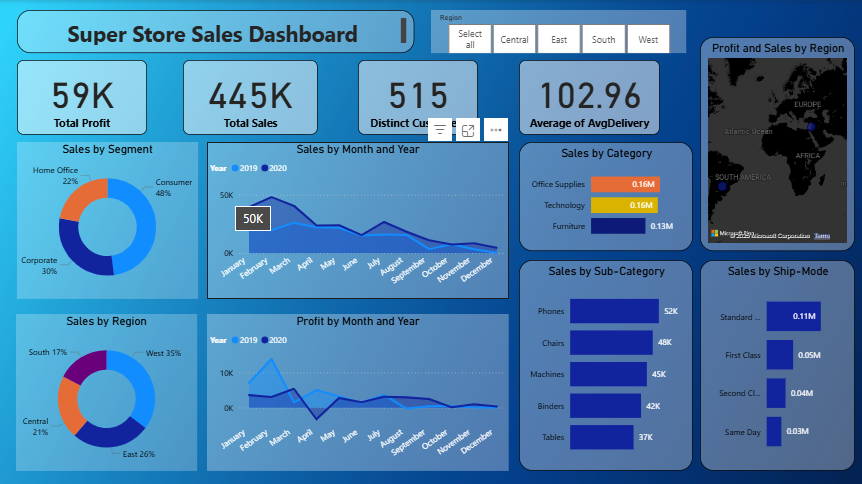

The page's visual inventory and layout, read from the dashboard file:
{"tool":"powerbi","page":{"name":"Page 1","canvas":[1280,720],"ordinal":0},"visuals":[{"type":"clusteredBarChart","title":"Sales by Category","fields":{"Category":["SuperStore_Sales_Dataset.Category"],"Y":["Sum(SuperStore_Sales_Dataset.Sales)"]},"box":[770.7,210.9,258.4,161.9],"z":0},{"type":"card","fields":{"Values":["Sum(SuperStore_Sales_Dataset.Profit)"]},"box":[25.2,89.1,193,111.4],"z":1000},{"type":"card","fields":{"Values":["Count(SuperStore_Sales_Dataset.Customer ID)"]},"box":[531.6,89.1,178.2,111.4],"z":2000},{"type":"card","fields":{"Values":["Sum(SuperStore_Sales_Dataset.Sales)"]},"box":[271.7,89.1,200.5,111.4],"z":3000},{"type":"clusteredBarChart","title":"Sales by Sub-Category","fields":{"Category":["SuperStore_Sales_Dataset.Sub-Category"],"Y":["Sum(SuperStore_Sales_Dataset.Sales)"]},"box":[770.7,386.1,258.4,313.3],"z":4000},{"type":"clusteredBarChart","title":"Sales by Ship-Mode","fields":{"Category":["SuperStore_Sales_Dataset.Ship Mode","SuperStore_Sales_Dataset.Sub-Category"],"Y":["Sum(SuperStore_Sales_Dataset.Sales)"]},"box":[1039.4,386.1,230.2,313.3],"z":5000},{"type":"areaChart","title":" Sales by Month and Year","fields":{"Y":["Sum(SuperStore_Sales_Dataset.Sales)"],"Series":["SuperStore_Sales_Dataset.Order Date.Variation.Date Hierarchy.Year"],"Category":["SuperStore_Sales_Dataset.Order Date.Variation.Date Hierarchy.Month"]},"box":[307.4,210.9,448.4,233.1],"z":6000},{"type":"areaChart","title":" Profit by Month and Year","fields":{"Category":["SuperStore_Sales_Dataset.Order Date.Variation.Date Hierarchy.Month"],"Series":["SuperStore_Sales_Dataset.Order Date.Variation.Date Hierarchy.Year"],"Y":["Sum(SuperStore_Sales_Dataset.Profit)"]},"box":[307.4,466.3,448.4,233.1],"z":7000},{"type":"map","title":"Profit and Sales by Region","fields":{"Category":["SuperStore_Sales_Dataset.Region"],"Size":["CountNonNull(SuperStore_Sales_Dataset.State)"]},"box":[1039.4,54.9,230.2,317.8],"z":8000},{"type":"donutChart","title":" Sales by Segment","fields":{"Category":["SuperStore_Sales_Dataset.Segment"],"Y":["Sum(SuperStore_Sales_Dataset.Sales)"]},"box":[25.2,210.9,268.8,233.1],"z":9000},{"type":"donutChart","title":" Sales by Region","fields":{"Category":["SuperStore_Sales_Dataset.Region"],"Y":["Sum(SuperStore_Sales_Dataset.Sales)"]},"box":[23.8,466.3,268.8,233.1],"z":10000},{"type":"slicer","fields":{"Values":["SuperStore_Sales_Dataset.Region"]},"box":[640,14.8,378.7,63.9],"z":11000},{"type":"textbox","box":[25.2,14.8,589.5,63.9],"z":12000},{"type":"card","fields":{"Values":["Avg(SuperStore_Sales_Dataset.AvgDelivery)"]},"box":[770.7,89.1,209.4,111.4],"z":12001}]}

Visuals, with their boxes in screenshot pixels (x1, y1, x2, y2), scaled from the page's 1280x720 canvas onto the 862x484 screenshot:
"Sales by Category" clusteredBarChart: left=519, top=142, right=693, bottom=251
card - Sum(SuperStore_Sales_Dataset.Profit): left=17, top=60, right=147, bottom=135
card - Count(SuperStore_Sales_Dataset.Customer ID): left=358, top=60, right=478, bottom=135
card - Sum(SuperStore_Sales_Dataset.Sales): left=183, top=60, right=318, bottom=135
"Sales by Sub-Category" clusteredBarChart: left=519, top=260, right=693, bottom=470
"Sales by Ship-Mode" clusteredBarChart: left=700, top=260, right=855, bottom=470
" Sales by Month and Year" areaChart: left=207, top=142, right=509, bottom=298
" Profit by Month and Year" areaChart: left=207, top=313, right=509, bottom=470
"Profit and Sales by Region" map: left=700, top=37, right=855, bottom=251
" Sales by Segment" donutChart: left=17, top=142, right=198, bottom=298
" Sales by Region" donutChart: left=16, top=313, right=197, bottom=470
slicer - SuperStore_Sales_Dataset.Region: left=431, top=10, right=686, bottom=53
textbox: left=17, top=10, right=414, bottom=53
card - Avg(SuperStore_Sales_Dataset.AvgDelivery): left=519, top=60, right=660, bottom=135
